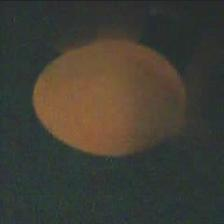fertile: (28, 32, 190, 162)
